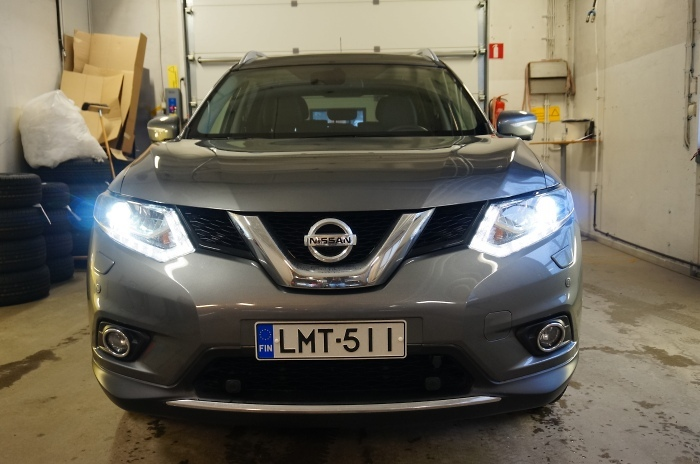license: (251, 316, 406, 361)
